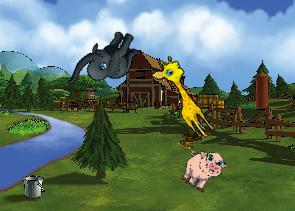elephant: (65, 18, 143, 103)
giraffe: (147, 52, 225, 142)
pig: (176, 142, 229, 197)
